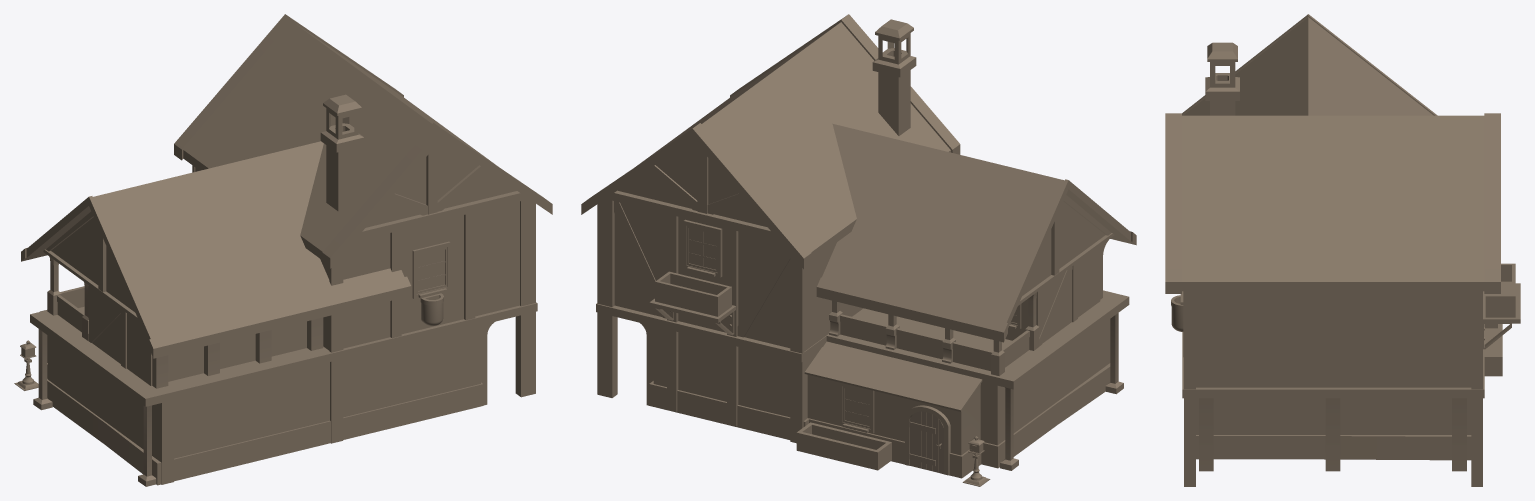
Rendered from House 1.fbx.
3 views of the same model, side by side, from view 1: azimuth 30°, elevation 25°; view 2: azimuth 150°, elevation 25°; view 3: azimuth 270°, elevation 25° (orthographic). The views are drawn at different scales.
Visible parts, largest first — view 1: Cube.183; view 2: Cube.183; view 3: Cube.183.
Part boxes in pixels (x1,y1,x2,y2): Cube.183: (14, 14, 552, 486); Cube.183: (581, 14, 1136, 486); Cube.183: (1165, 14, 1520, 486).
Size of the model in its own units: 3306 by 2606 by 2373.
